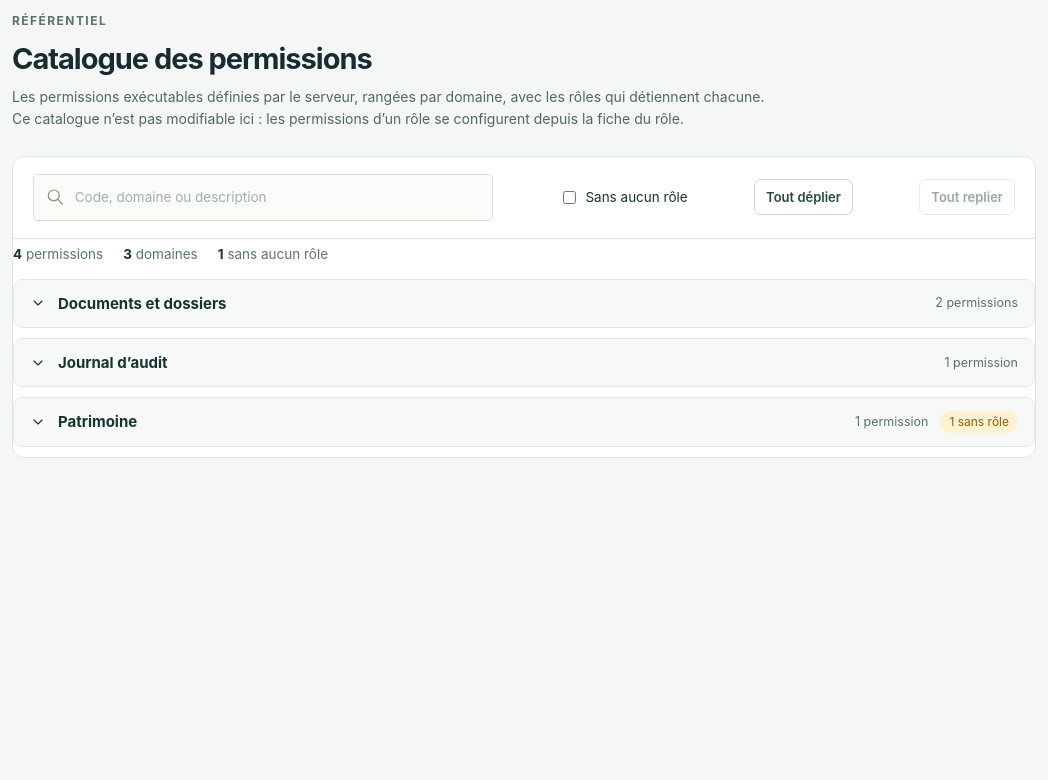
Test: une permission sans rôle le dit
Click the button "Patrimoine 1 permission 1 sans rôle" at (98, 422), box [14,398,1034,446]
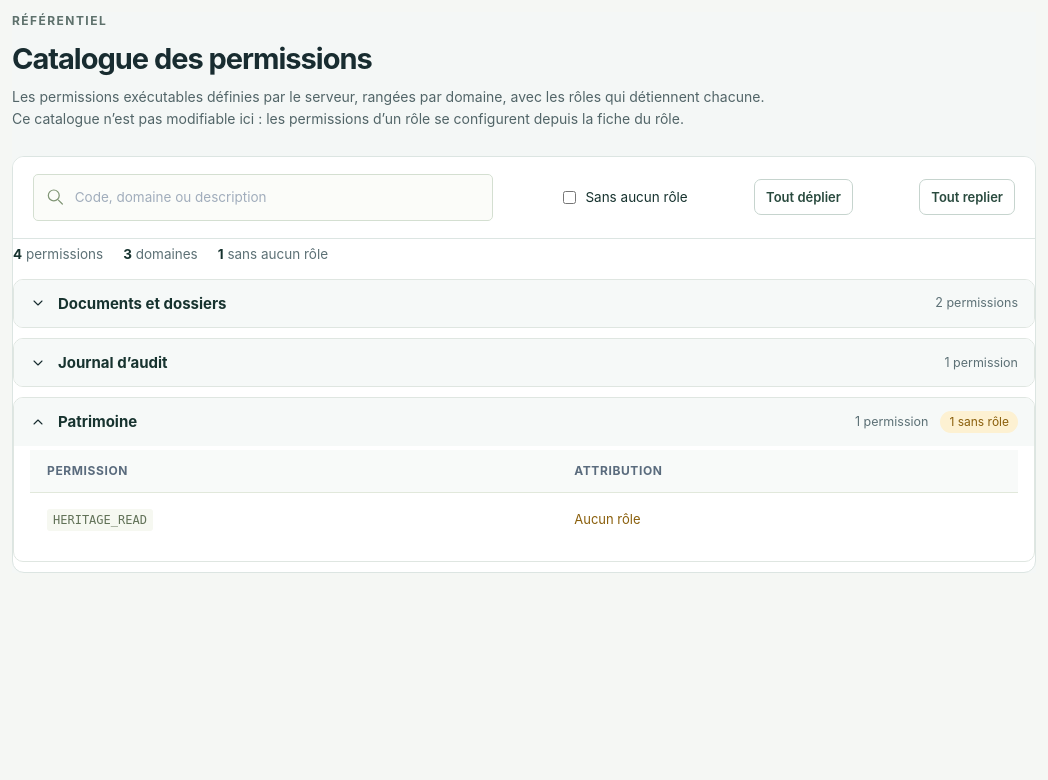
Check: the text "Aucun rôle" is shown, box [574,511,641,527]
